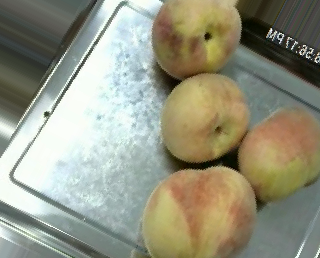Peach: (143, 165, 255, 256), (160, 73, 249, 165), (237, 104, 319, 203), (151, 0, 241, 77)
